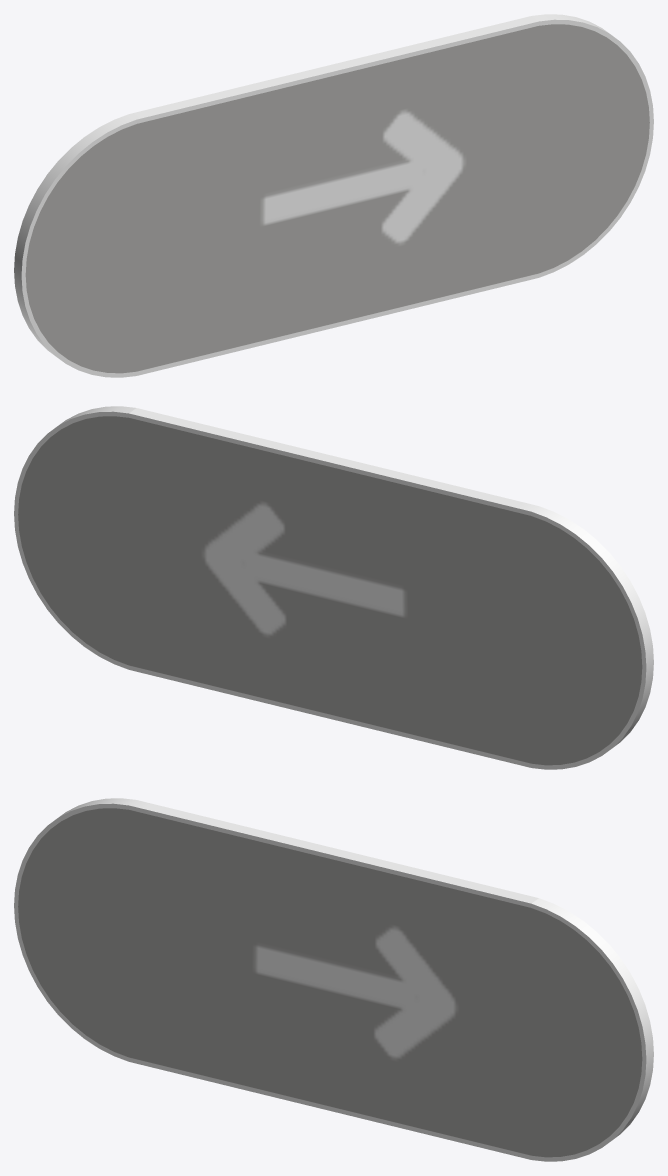
The picture shows the model from 3 angles, top to bottom: view 1: azimuth 30°, elevation 25°; view 2: azimuth 150°, elevation 25°; view 3: azimuth 330°, elevation 25°; orthographic projection.
Parts seen in each view (by area): view 1: A3_1_L_primitive0, A3_1_L_primitive1; view 2: A3_1_L_primitive0, A3_1_L_primitive1; view 3: A3_1_L_primitive0, A3_1_L_primitive1.
Part boxes in pixels (x1,y1,x2,y2): A3_1_L_primitive0: (25,24,649,373); A3_1_L_primitive1: (14,14,653,377); A3_1_L_primitive0: (18,416,642,765); A3_1_L_primitive1: (14,406,653,769); A3_1_L_primitive0: (18,808,642,1157); A3_1_L_primitive1: (14,798,653,1161).
Bounding box in the file's own units: 0.0517 × 0.02 × 0.00107.
2 materials, 1 textured.
